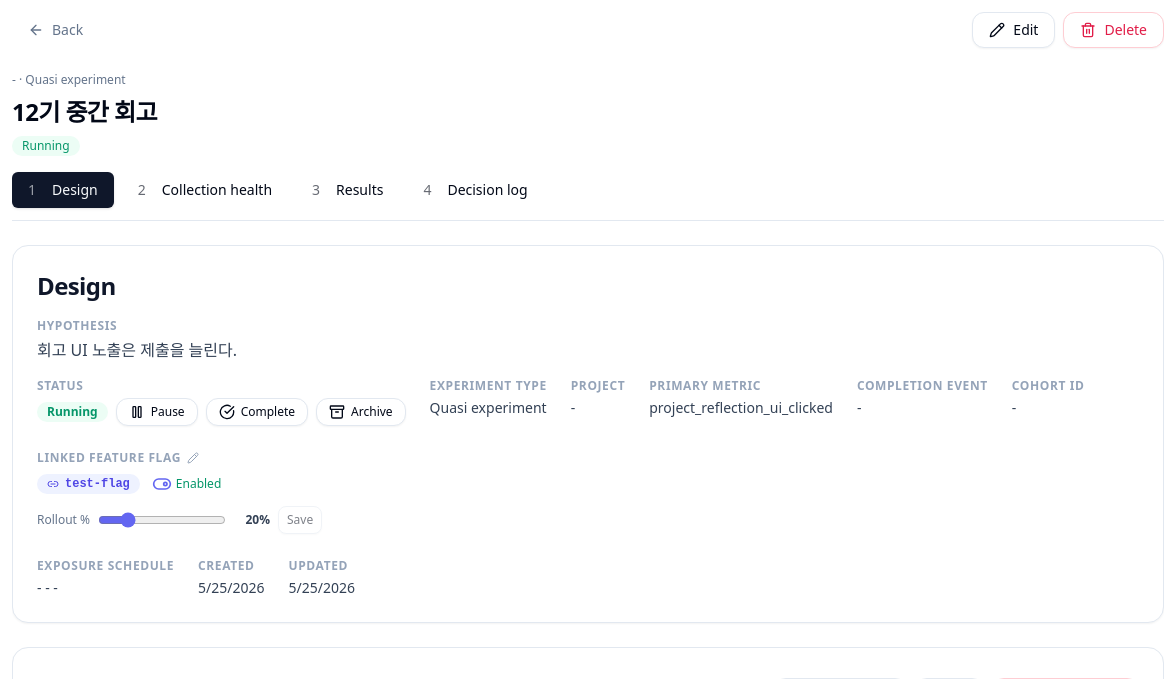
Scenario: ExperimentDetail placements › preserves rollout input on failure and retries the same setting
The image size is (1176, 679).
Set the slider named "Rollout %" to "35" at (145, 520), box [98,512,226,528]
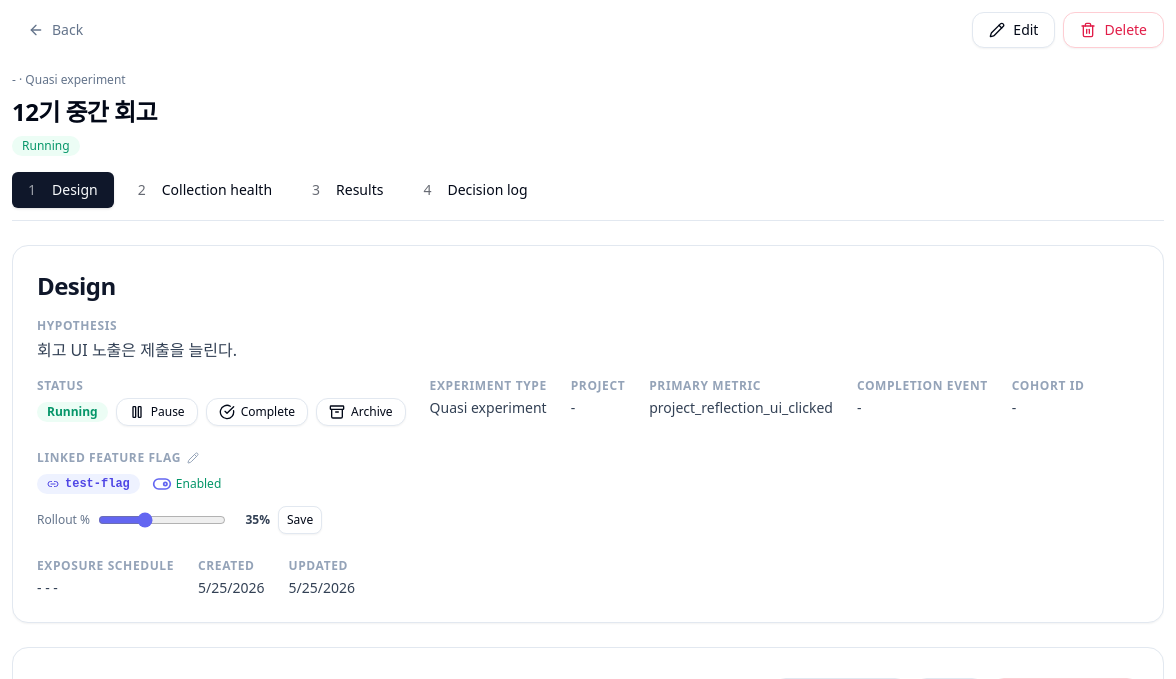
Click the button "Save" at (300, 520), box [278,506,322,534]
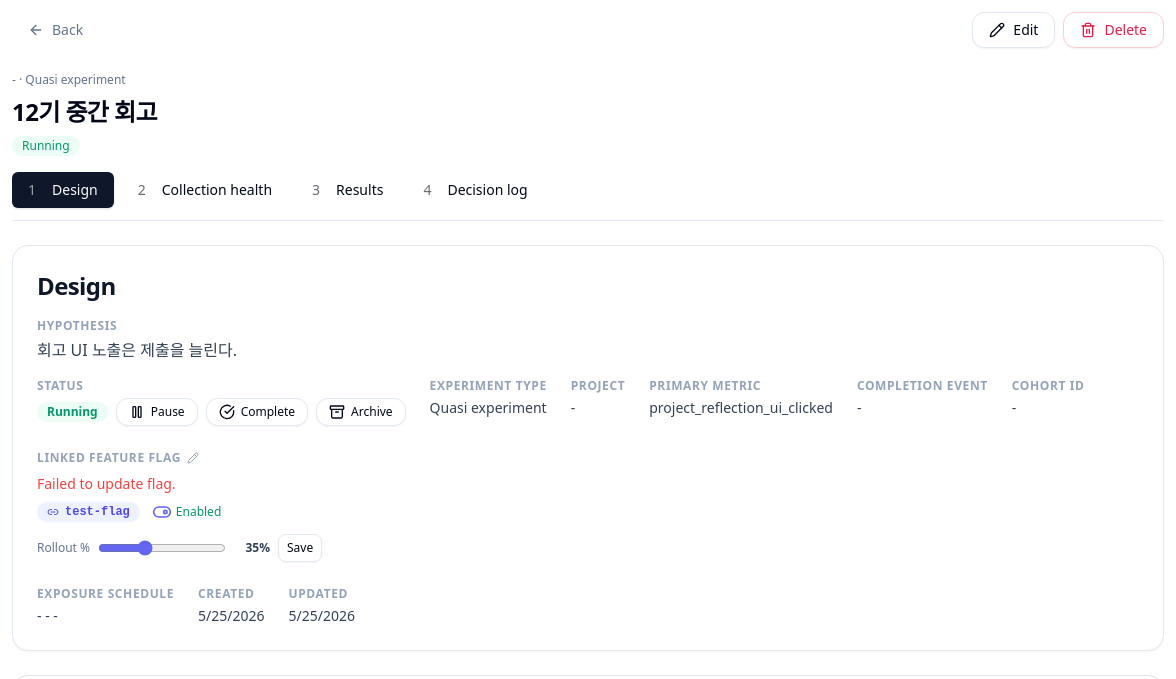
Result: the message shows "Failed to update flag" at [37,474,176,493]
Click the button "Save" at (300, 548), box [278,534,322,562]
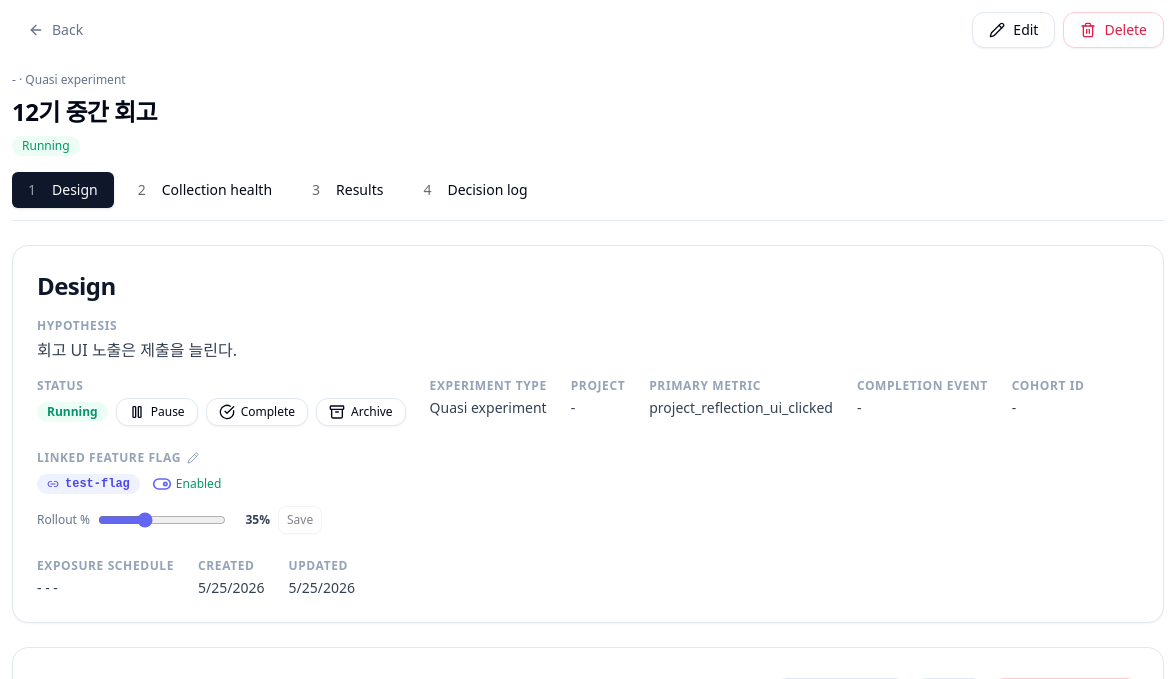
Result: the message "Failed to update flag." is gone
Result: the button "Save" is disabled at [278,506,322,534]
